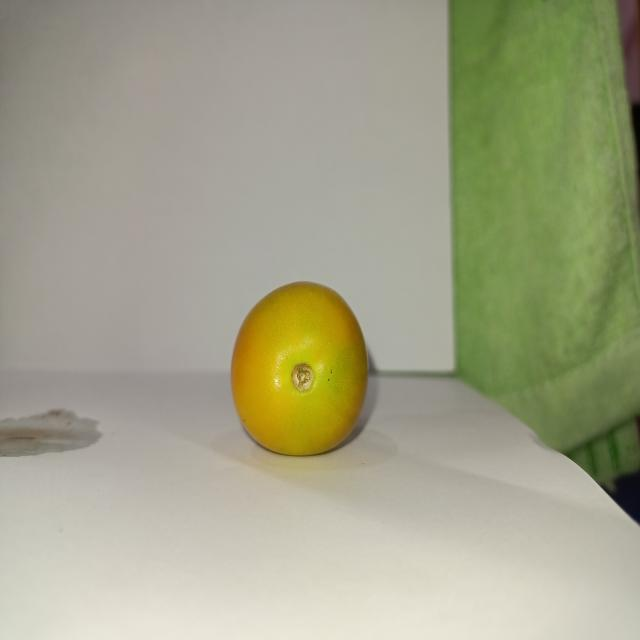Red: (229, 279, 369, 456)
